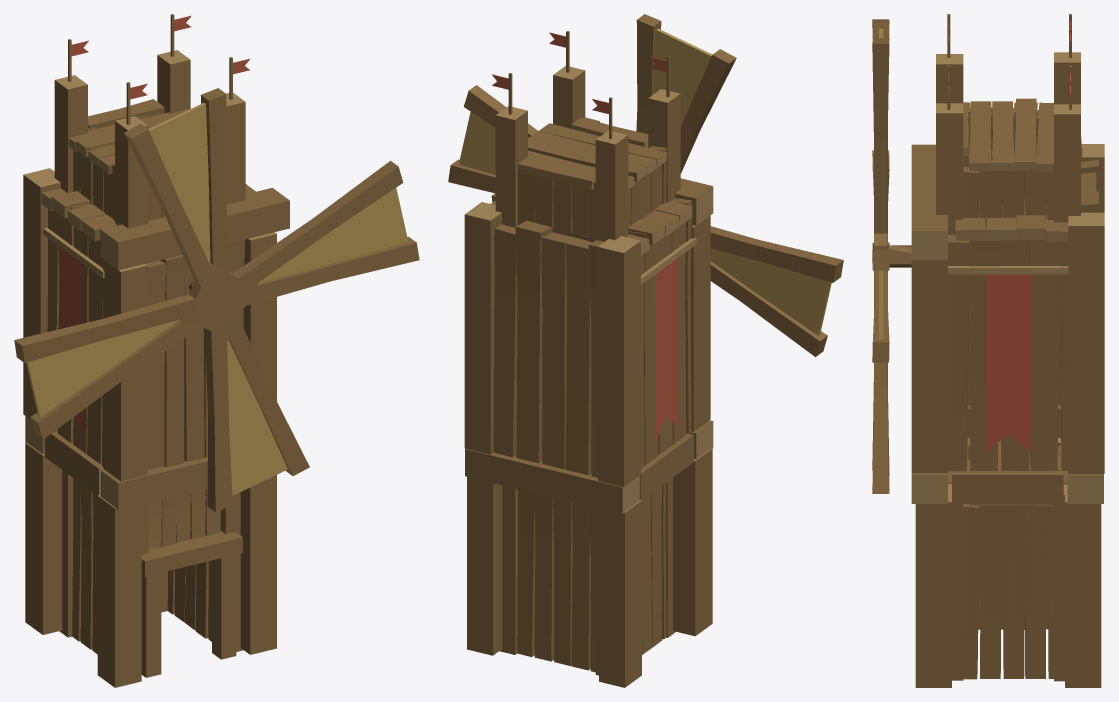
The model's file is Windmill-jpHoi9xDLG.glb.
The picture shows the model from 3 angles, left to right: view 1: azimuth 30°, elevation 25°; view 2: azimuth 150°, elevation 25°; view 3: azimuth 270°, elevation 25°; orthographic projection. The views are drawn at different scales.
Visible parts, largest first — view 1: Windmill-jpHoi9xDLG; view 2: Windmill-jpHoi9xDLG; view 3: Windmill-jpHoi9xDLG.
Boxes of the visible parts, bbox=[...] form: Windmill-jpHoi9xDLG: bbox=[14, 14, 419, 687]; Windmill-jpHoi9xDLG: bbox=[448, 14, 843, 687]; Windmill-jpHoi9xDLG: bbox=[872, 14, 1104, 687].
Bounding box in the file's own units: 1.35 × 1.92 × 0.6604.
